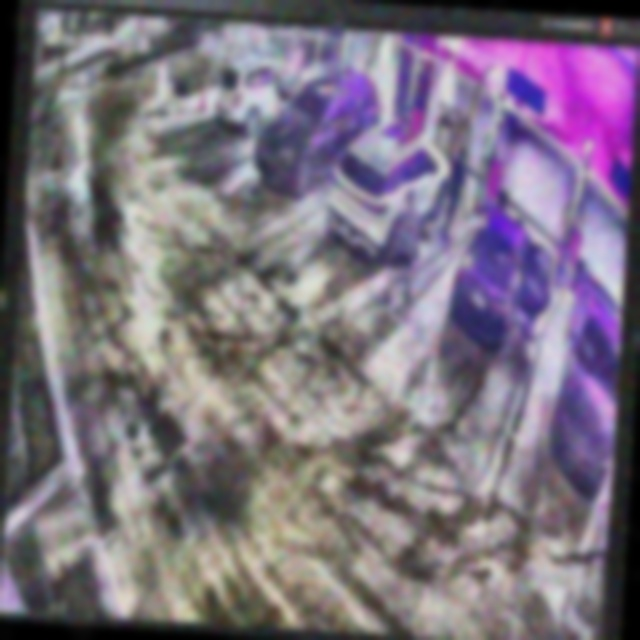Car: (323, 117, 453, 264), (256, 65, 376, 198), (447, 203, 549, 354)
